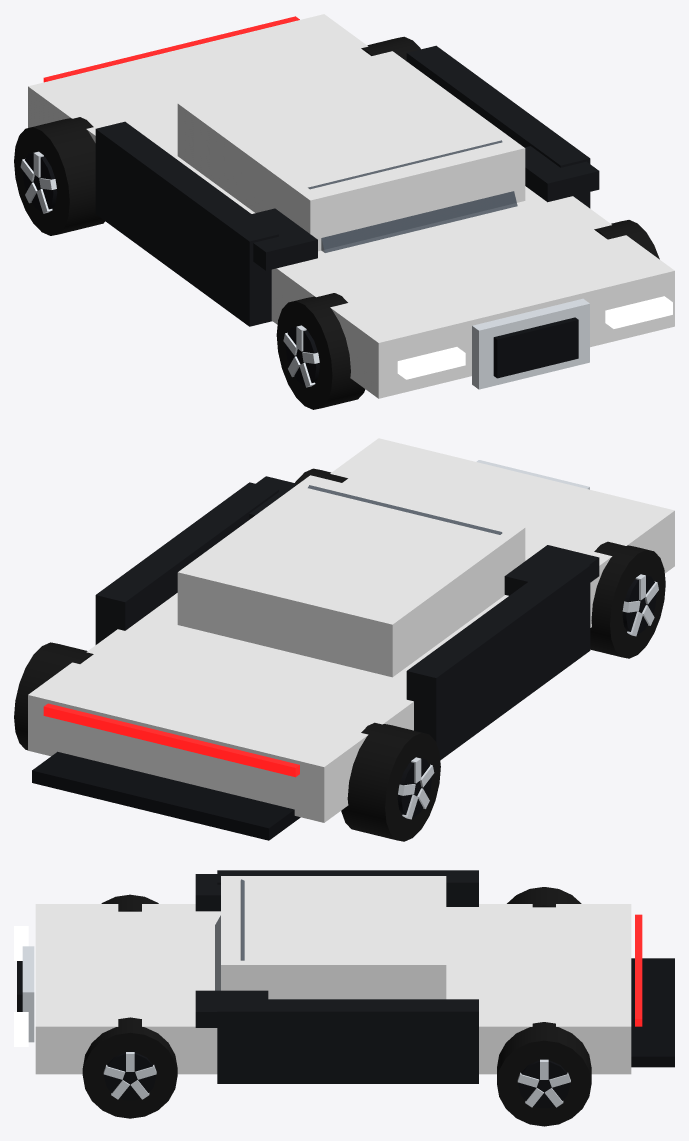
File: baguetti-cerberus.glb
3 renders of one model, top to bottom at view 1: azimuth 30°, elevation 25°; view 2: azimuth 150°, elevation 25°; view 3: azimuth 270°, elevation 25°, orthographic. The views are drawn at different scales.
Parts seen in each view (by area): view 1: chassis, wheel-back-left, wheel-front-left, glass, wheel-front-right, wheel-back-right; view 2: chassis, wheel-back-left, wheel-front-left, wheel-back-right, glass; view 3: chassis, wheel-back-right, wheel-front-right, wheel-back-left, glass, wheel-front-left.
Boxes of the visible parts, box(x1,y1,x2,y2) form: chassis: box(28, 14, 674, 398); wheel-back-left: box(14, 117, 105, 235); wheel-front-left: box(276, 293, 365, 409); glass: box(308, 140, 517, 252); wheel-front-right: box(594, 220, 659, 259); wheel-back-right: box(361, 36, 420, 60); chassis: box(28, 438, 674, 840); wheel-back-left: box(341, 722, 440, 841); wheel-front-left: box(590, 541, 665, 658); wheel-back-right: box(14, 642, 93, 750); glass: box(308, 485, 501, 534); chassis: box(14, 870, 674, 1083); wheel-back-right: box(497, 1022, 591, 1126); wheel-front-right: box(82, 1017, 177, 1118); wheel-back-left: box(507, 887, 581, 907); glass: box(215, 879, 244, 990); wheel-front-left: box(101, 894, 158, 911).
Size of the model in its own units: 2.58 by 0.9913 by 4.55.
